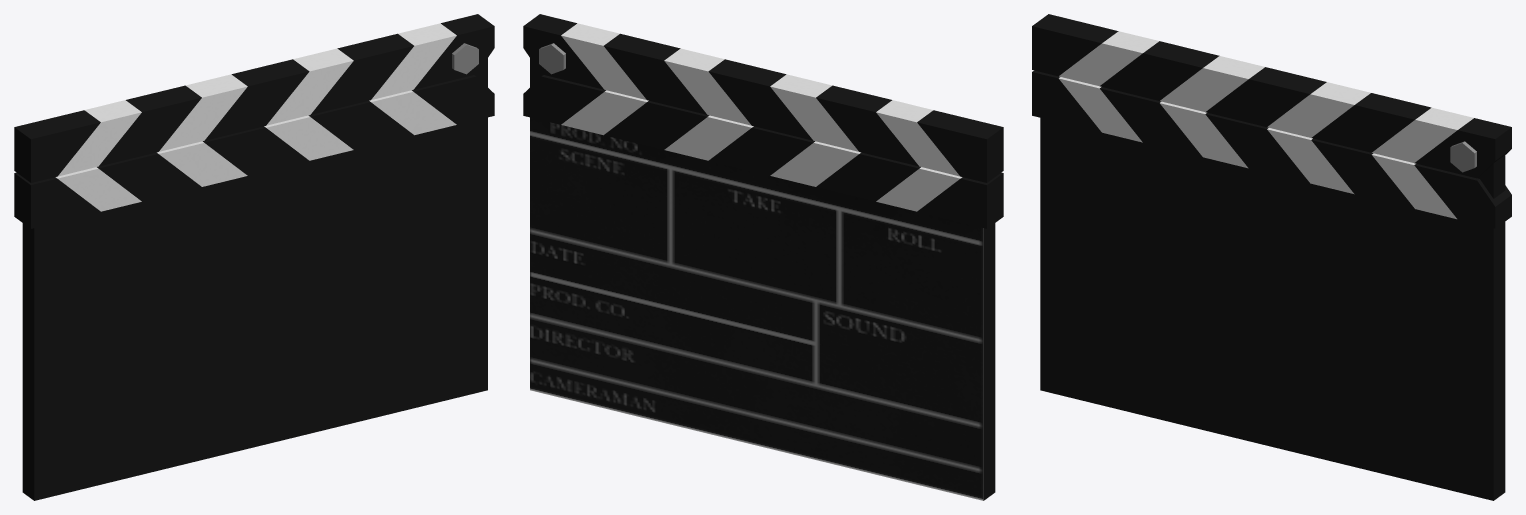
Rendered from ciack.fbx.
The picture shows the model from 3 angles, left to right: view 1: azimuth 30°, elevation 25°; view 2: azimuth 150°, elevation 25°; view 3: azimuth 330°, elevation 25°; orthographic projection.
Visible parts, largest first — view 1: Cube, Cylinder; view 2: Cube, Cylinder; view 3: Cube, Cylinder.
Part boxes in pixels (x1,y1,x2,y2): Cube: (14, 58, 494, 500); Cylinder: (14, 14, 494, 182); Cube: (523, 58, 1003, 500); Cylinder: (523, 14, 1003, 182); Cube: (1032, 70, 1511, 500); Cylinder: (1032, 14, 1511, 178).
Size of the model in its own units: 40.14 by 30.19 by 3.22.
Materials: 1 (1 with a texture image).
